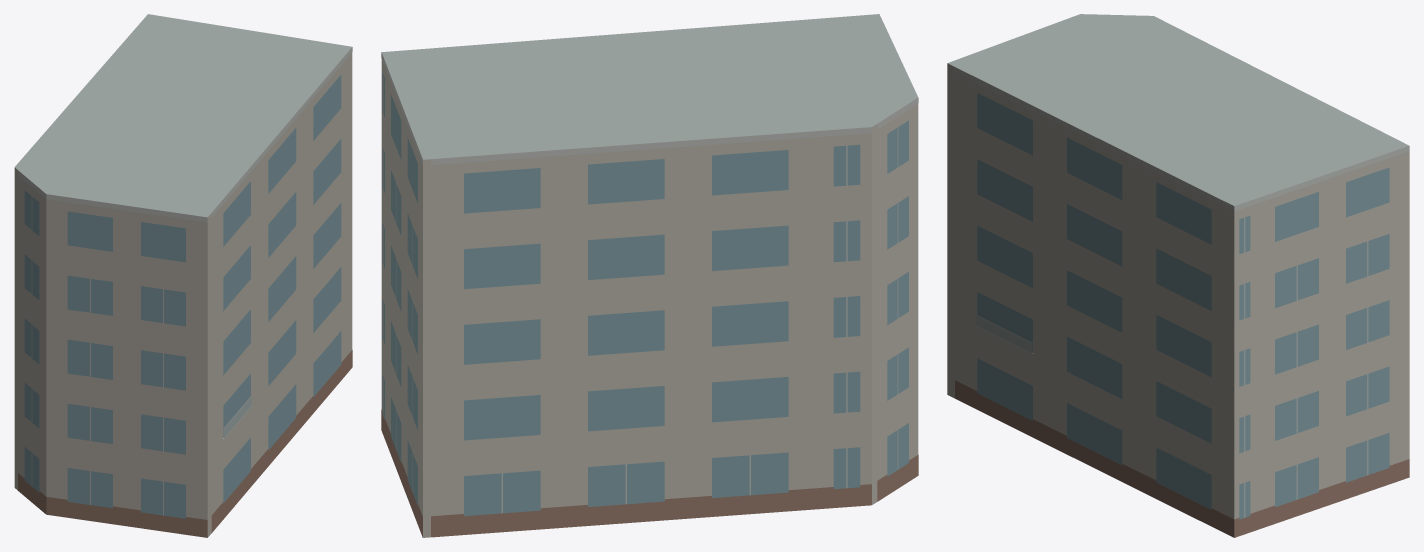
File: survey-upis-32984264.glb
The picture shows the model from 3 angles, left to right: view 1: azimuth 30°, elevation 25°; view 2: azimuth 150°, elevation 25°; view 3: azimuth 270°, elevation 25°; orthographic projection. The views are drawn at different scales.
Visible parts, largest first — view 1: survey-upis-32984264.tmp; view 2: survey-upis-32984264.tmp; view 3: survey-upis-32984264.tmp.
Boxes of the visible parts, x1,y1,x2,y2 form: survey-upis-32984264.tmp: (14,14,352,537); survey-upis-32984264.tmp: (381,14,918,537); survey-upis-32984264.tmp: (947,14,1409,537).
Bounding box in the file's own units: 18.96 × 15.25 × 19.26.
